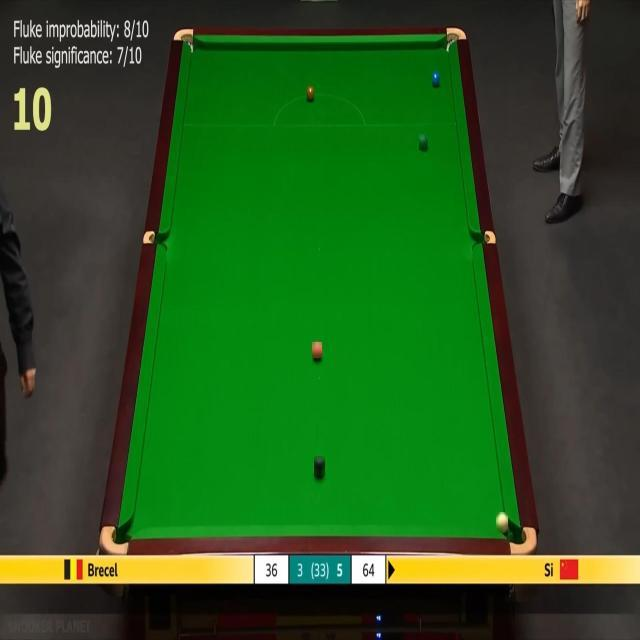Ball: (496, 512, 508, 533), (314, 456, 325, 476), (312, 342, 322, 358), (420, 134, 428, 150), (432, 71, 440, 86), (306, 86, 314, 100)
